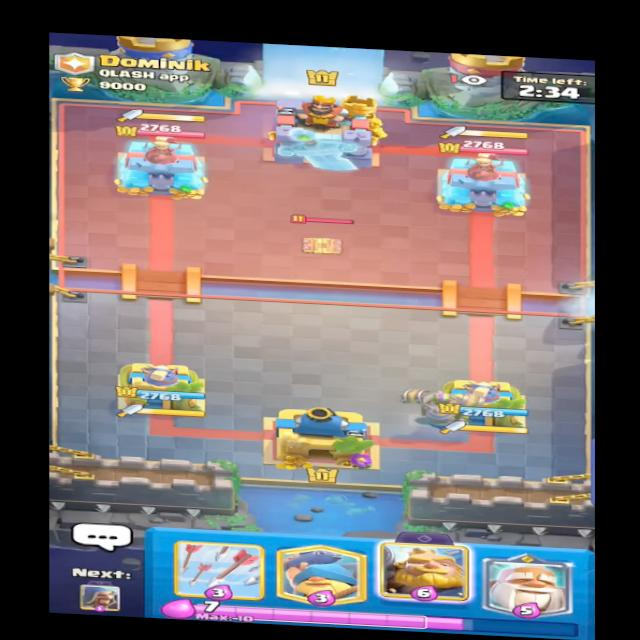tesla-closed: (281, 208, 366, 260)
